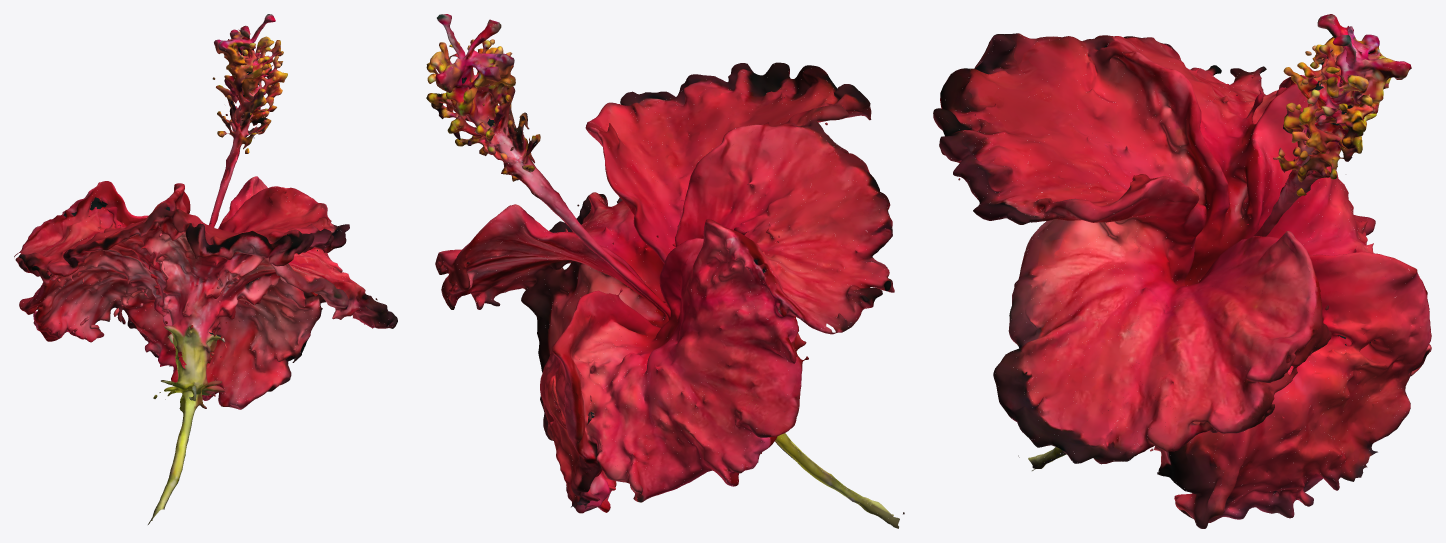
The model's file is hibiscus.glb.
The picture shows the model from 3 angles, left to right: view 1: azimuth 30°, elevation 25°; view 2: azimuth 150°, elevation 25°; view 3: azimuth 270°, elevation 25°; orthographic projection. The views are drawn at different scales.
Parts seen in each view (by area): view 1: mesh_material_19, mesh_material_18, mesh_material_20, mesh_material_7, mesh_material_12, mesh_material_21, mesh_material_17, mesh_material_29, mesh_material_25, mesh_material_36, mesh_material_33, mesh_material_9 (+40 smaller); view 2: mesh_material_12, mesh_material_21, mesh_material_17, mesh_material_13, mesh_material_19, mesh_material_8, mesh_material_20, mesh_material_18, mesh_material_10, mesh_material_11, mesh_material_16, mesh_material_9 (+52 smaller); view 3: mesh_material_21, mesh_material_19, mesh_material_20, mesh_material_8, mesh_material_7, mesh_material_18, mesh_material_17, mesh_material_16, mesh_material_9, mesh_material_29, mesh_material_15, mesh_material_33 (+53 smaller).
Boxes of the visible parts, box(x1,y1,x2,y2) form: mesh_material_19: box(15, 67, 321, 400); mesh_material_18: box(18, 17, 349, 520); mesh_material_20: box(19, 41, 389, 524); mesh_material_7: box(64, 25, 374, 509); mesh_material_12: box(32, 22, 396, 382); mesh_material_21: box(21, 14, 352, 414); mesh_material_17: box(26, 30, 379, 506); mesh_material_29: box(14, 37, 365, 391); mesh_material_25: box(83, 57, 393, 406); mesh_material_36: box(35, 44, 366, 399); mesh_material_33: box(26, 43, 352, 400); mesh_material_9: box(29, 52, 391, 319); mesh_material_12: box(447, 52, 891, 509); mesh_material_21: box(427, 14, 894, 499); mesh_material_17: box(435, 39, 872, 505); mesh_material_13: box(461, 68, 880, 380); mesh_material_19: box(451, 86, 888, 481); mesh_material_8: box(452, 47, 815, 459); mesh_material_20: box(448, 24, 904, 528); mesh_material_18: box(437, 15, 894, 522); mesh_material_10: box(462, 111, 892, 460); mesh_material_11: box(433, 47, 886, 489); mesh_material_16: box(442, 89, 883, 491); mesh_material_9: box(434, 68, 873, 485); mesh_material_21: box(960, 26, 1427, 522); mesh_material_19: box(947, 36, 1425, 518); mesh_material_20: box(1007, 17, 1411, 510); mesh_material_8: box(939, 51, 1377, 488); mesh_material_7: box(943, 14, 1408, 467); mesh_material_18: box(933, 34, 1429, 478); mesh_material_17: box(935, 35, 1409, 528); mesh_material_16: box(989, 52, 1431, 450); mesh_material_9: box(955, 76, 1365, 420); mesh_material_29: box(939, 40, 1418, 499); mesh_material_15: box(933, 61, 1405, 368); mesh_material_33: box(988, 36, 1429, 511).
Size of the model in its own units: 1.91 by 2.23 by 1.65.
119 materials, 119 textured.
